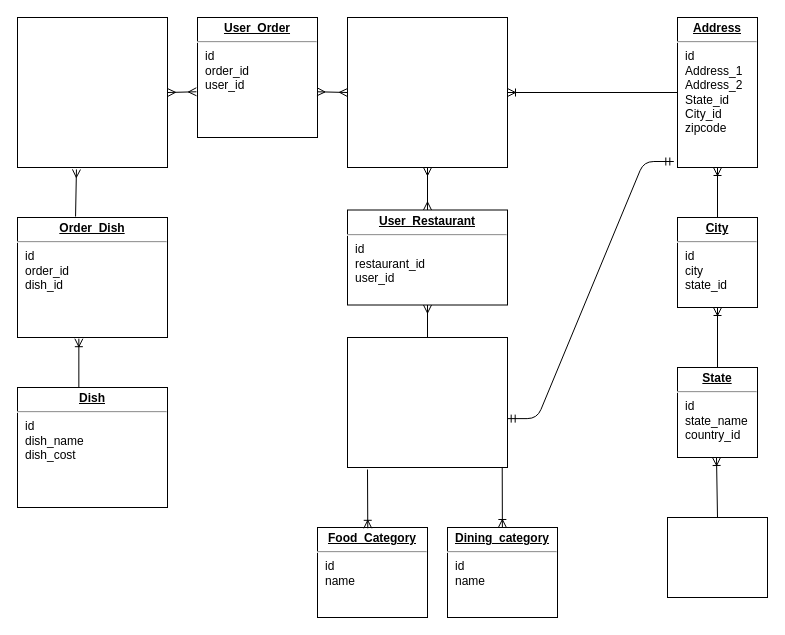
Some shapes in this 785 by 635 pixel diagram are drawn without their labels. Here are the shapes that lost their labels. From the top down, the centre of each, then its label:
At point 92,92: "Order id cost tips total_cost rating date restaurant_id".
At point 427,92: "User id firstName lastName email address_id".
At point 427,402: "Restaurant id name address_id dining_category_id food_category_id".
At point 717,557: "Country id country_name".
